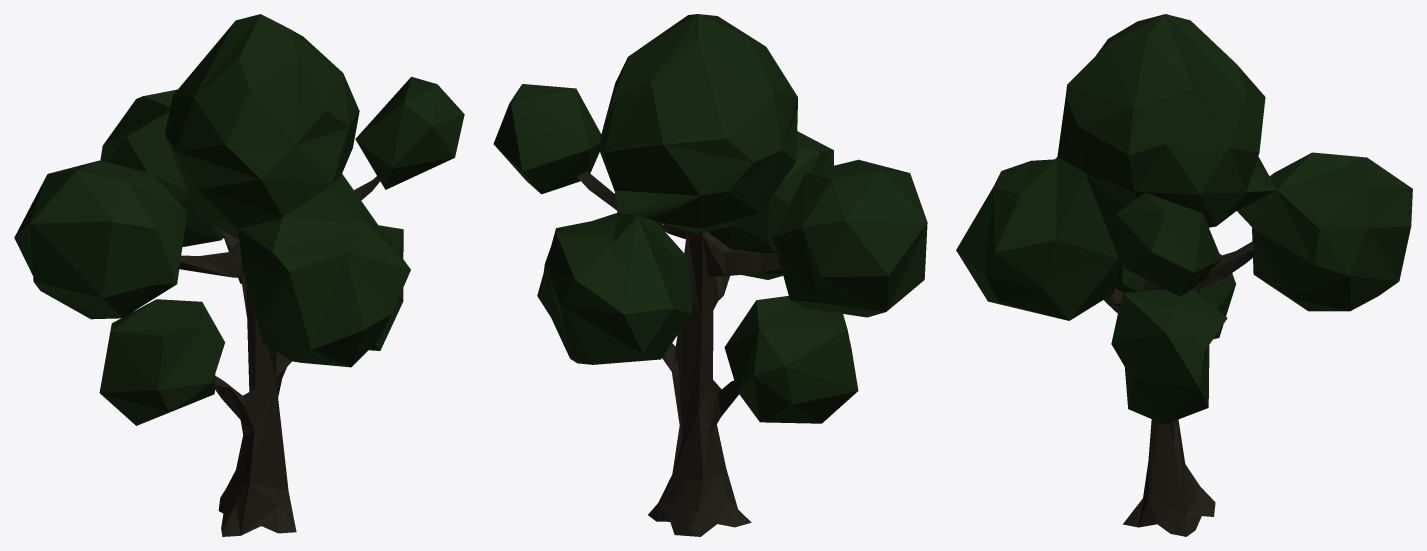
File: tree_1_1.obj
The picture shows the model from 3 angles, left to right: view 1: azimuth 30°, elevation 25°; view 2: azimuth 150°, elevation 25°; view 3: azimuth 270°, elevation 25°; orthographic projection.
Visible parts, largest first — view 1: pSphere11, pCube1; view 2: pSphere11, pCube1; view 3: pSphere11, pCube1.
Part boxes in pixels (x1=…): pSphere11: x1=14, y1=14, x2=464, y2=425; pCube1: x1=179, y1=176, x2=379, y2=536; pSphere11: x1=493, y1=14, x2=927, y2=423; pCube1: x1=577, y1=171, x2=780, y2=536; pSphere11: x1=956, y1=14, x2=1412, y2=424; pCube1: x1=1104, y1=241, x2=1253, y2=536.
Bounding box in the file's own units: 22.5 × 25.43 × 20.92.
